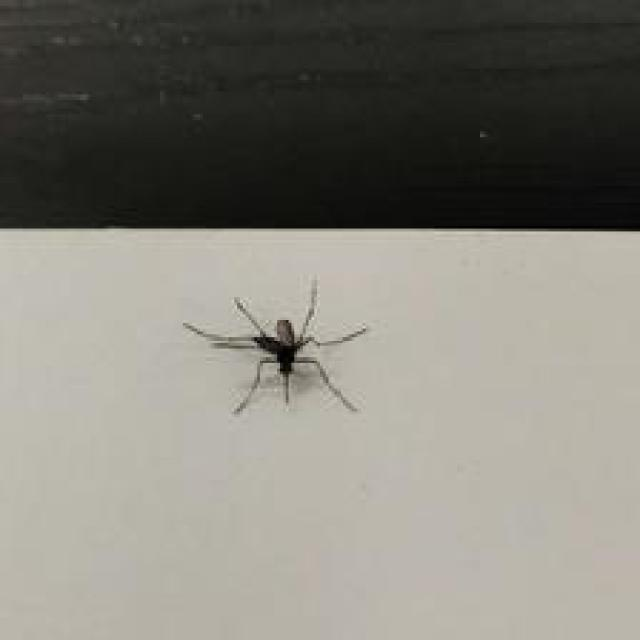Aedes albopictus: (183, 274, 368, 417)
